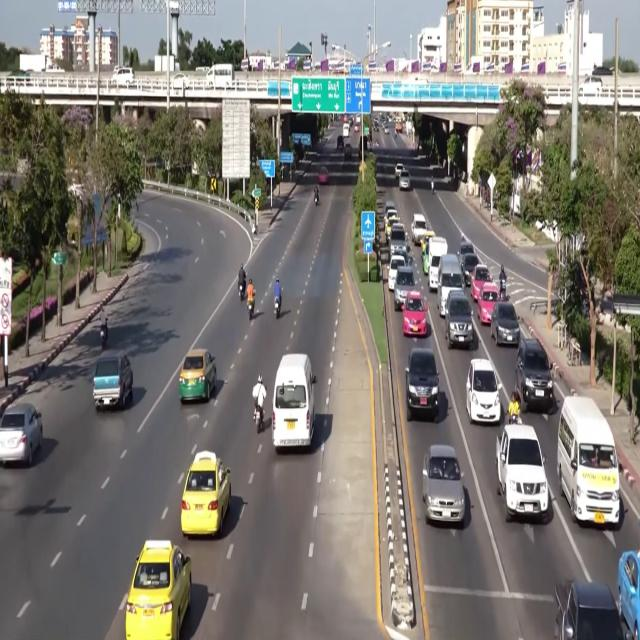car: (125, 541, 191, 639), (181, 451, 230, 536), (423, 445, 465, 524), (516, 336, 555, 412), (0, 403, 42, 466), (406, 348, 438, 421), (93, 353, 133, 410), (466, 359, 501, 423), (179, 349, 216, 402), (617, 551, 639, 639), (445, 290, 473, 348), (490, 302, 519, 345), (403, 291, 427, 336), (394, 266, 415, 311), (477, 282, 498, 324), (471, 264, 492, 301), (388, 255, 406, 291), (421, 229, 434, 274), (389, 223, 407, 255), (461, 254, 479, 286), (579, 76, 602, 96), (111, 67, 135, 86), (385, 208, 399, 238), (421, 228, 435, 255), (392, 248, 413, 265), (458, 240, 475, 261), (172, 72, 189, 89), (399, 170, 410, 190), (318, 167, 328, 184), (385, 200, 396, 215), (46, 64, 64, 73), (395, 164, 405, 178), (337, 136, 343, 150), (343, 114, 348, 123), (354, 124, 359, 132), (383, 127, 388, 134)
scooty: (254, 405, 261, 433), (499, 280, 507, 301), (100, 325, 106, 350), (238, 282, 245, 300), (248, 299, 254, 319), (274, 298, 280, 318), (314, 192, 320, 206)
truck: (496, 424, 549, 522), (555, 580, 633, 639), (20, 54, 52, 72), (154, 56, 166, 72), (344, 141, 352, 159)
